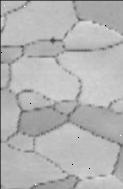good_void: (50, 37, 54, 44)
